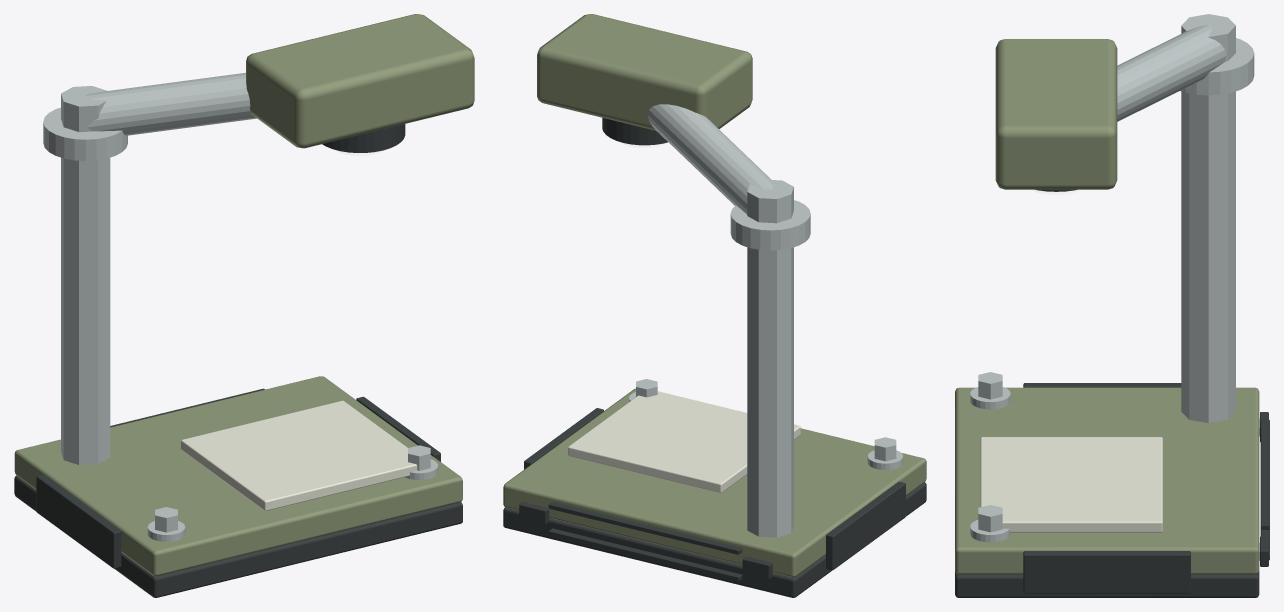
The model's file is mountain-border-checkpoint-mountain-border-checkpoint--edb2685f__30301.glb.
The picture shows the model from 3 angles, left to right: view 1: azimuth 30°, elevation 25°; view 2: azimuth 150°, elevation 25°; view 3: azimuth 270°, elevation 25°; orthographic projection. The views are drawn at different scales.
Parts seen in each view (by area): view 1: mountain-border-checkpoint-document-camera; view 2: mountain-border-checkpoint-document-camera; view 3: mountain-border-checkpoint-document-camera.
Part boxes in pixels (box(x1,y1,x2,y2)): mountain-border-checkpoint-document-camera: box(14, 14, 474, 597); mountain-border-checkpoint-document-camera: box(503, 14, 926, 597); mountain-border-checkpoint-document-camera: box(955, 14, 1269, 597).
Bounding box in the file's own units: 0.431 × 0.53 × 0.3105.
